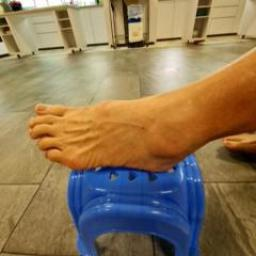Lateral View -Left Foot-: (17, 70, 225, 188)
